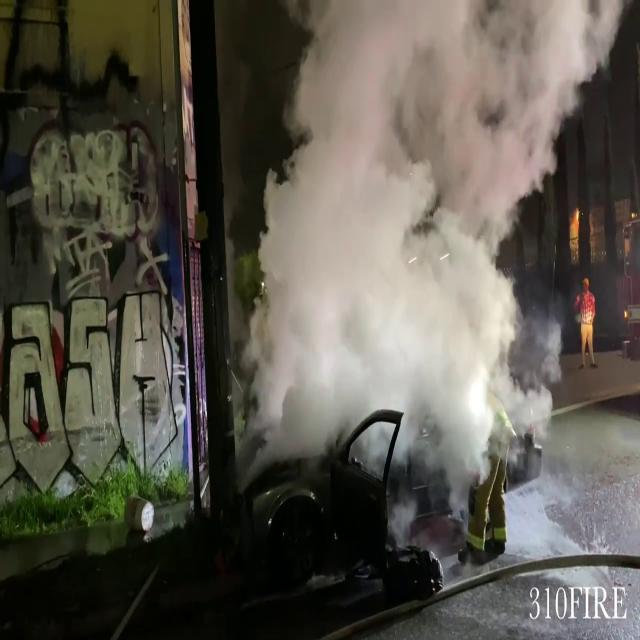Smoke: (226, 0, 606, 447)
